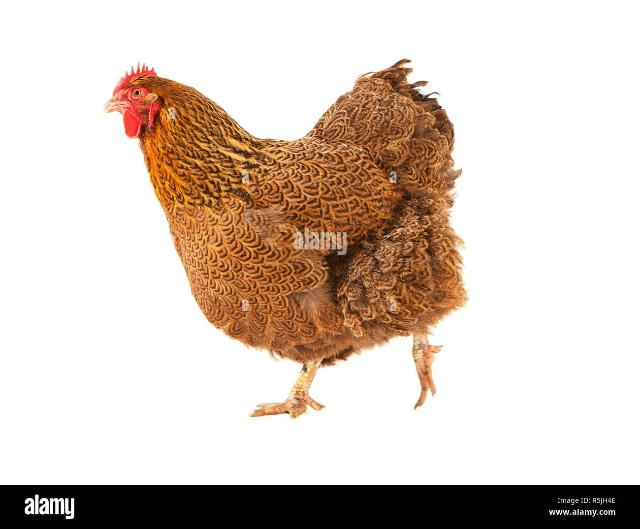Chicken: (106, 59, 470, 419)
